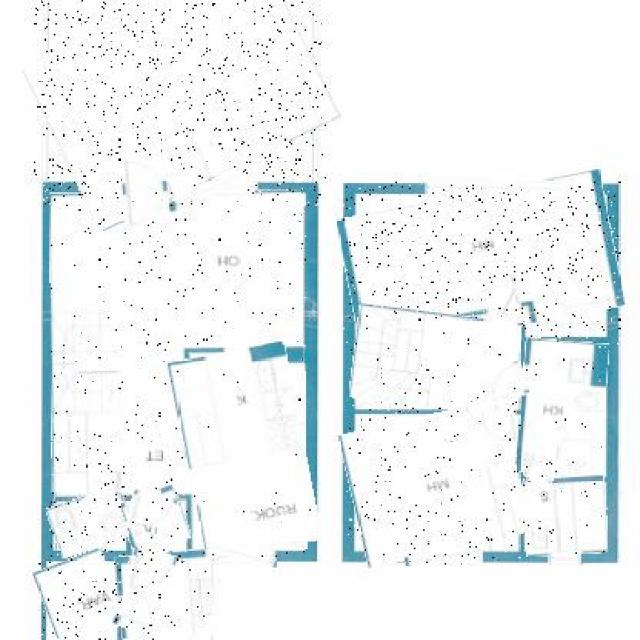door: (122, 158, 169, 230), (114, 592, 163, 636), (128, 551, 175, 594), (128, 492, 175, 534), (485, 363, 526, 402), (477, 277, 517, 314), (483, 411, 515, 451), (97, 463, 125, 500), (525, 456, 557, 482)
window: (168, 174, 255, 203), (426, 180, 559, 192), (404, 548, 482, 564), (212, 546, 278, 563), (548, 552, 583, 566)
zone: (52, 191, 308, 549), (34, 0, 326, 206), (343, 182, 620, 344), (178, 344, 312, 556), (346, 408, 525, 558), (351, 308, 520, 410), (519, 338, 606, 476), (115, 551, 211, 640), (38, 552, 122, 640), (523, 477, 608, 555), (49, 492, 126, 554), (121, 489, 188, 554)
